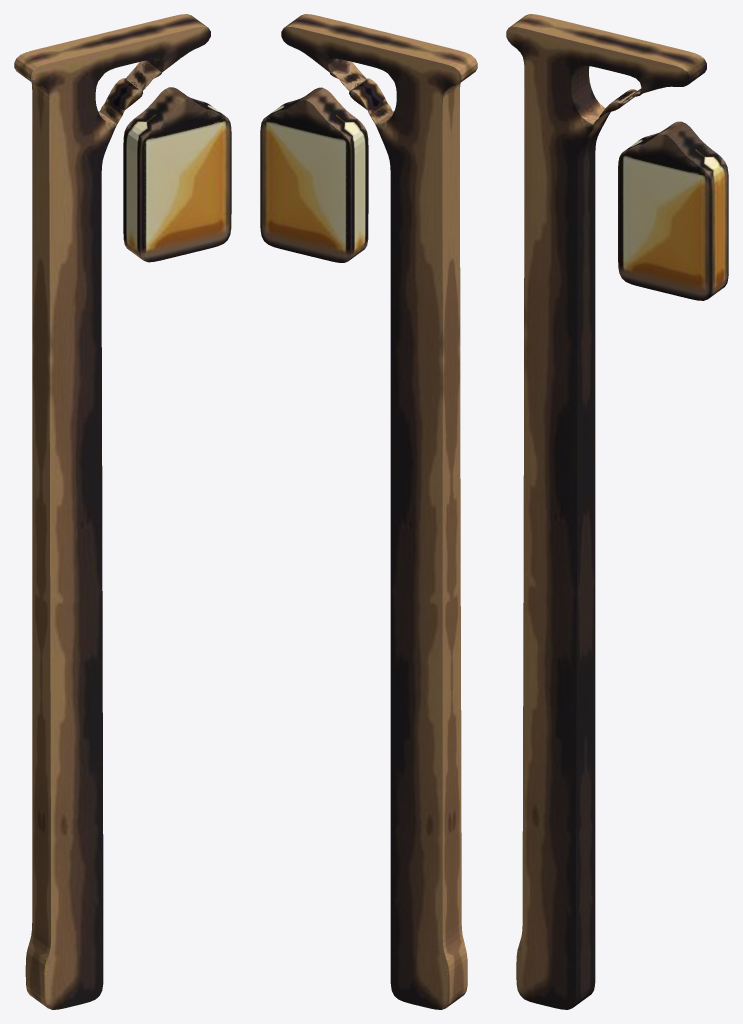
Rendered from lantern_post.glb.
3 renders of one model, left to right at view 1: azimuth 30°, elevation 25°; view 2: azimuth 150°, elevation 25°; view 3: azimuth 330°, elevation 25°, orthographic. The views are drawn at different scales.
Parts seen in each view (by area): view 1: geometry_0; view 2: geometry_0; view 3: geometry_0.
Part boxes in pixels (x1,y1,x2,y2): geometry_0: (14,14,231,1009); geometry_0: (260,14,477,1009); geometry_0: (506,14,728,1009).
Size of the model in its own units: 1.54 by 6.95 by 0.2617.
1 material, 1 textured.
